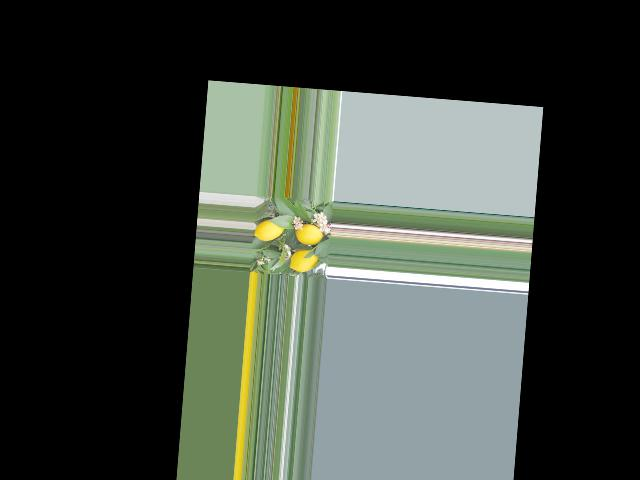lemon: (254, 214, 288, 243)
